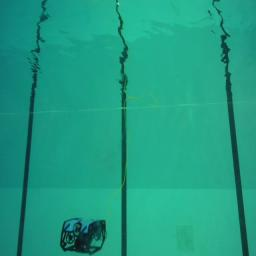front: (59, 217, 106, 255)
